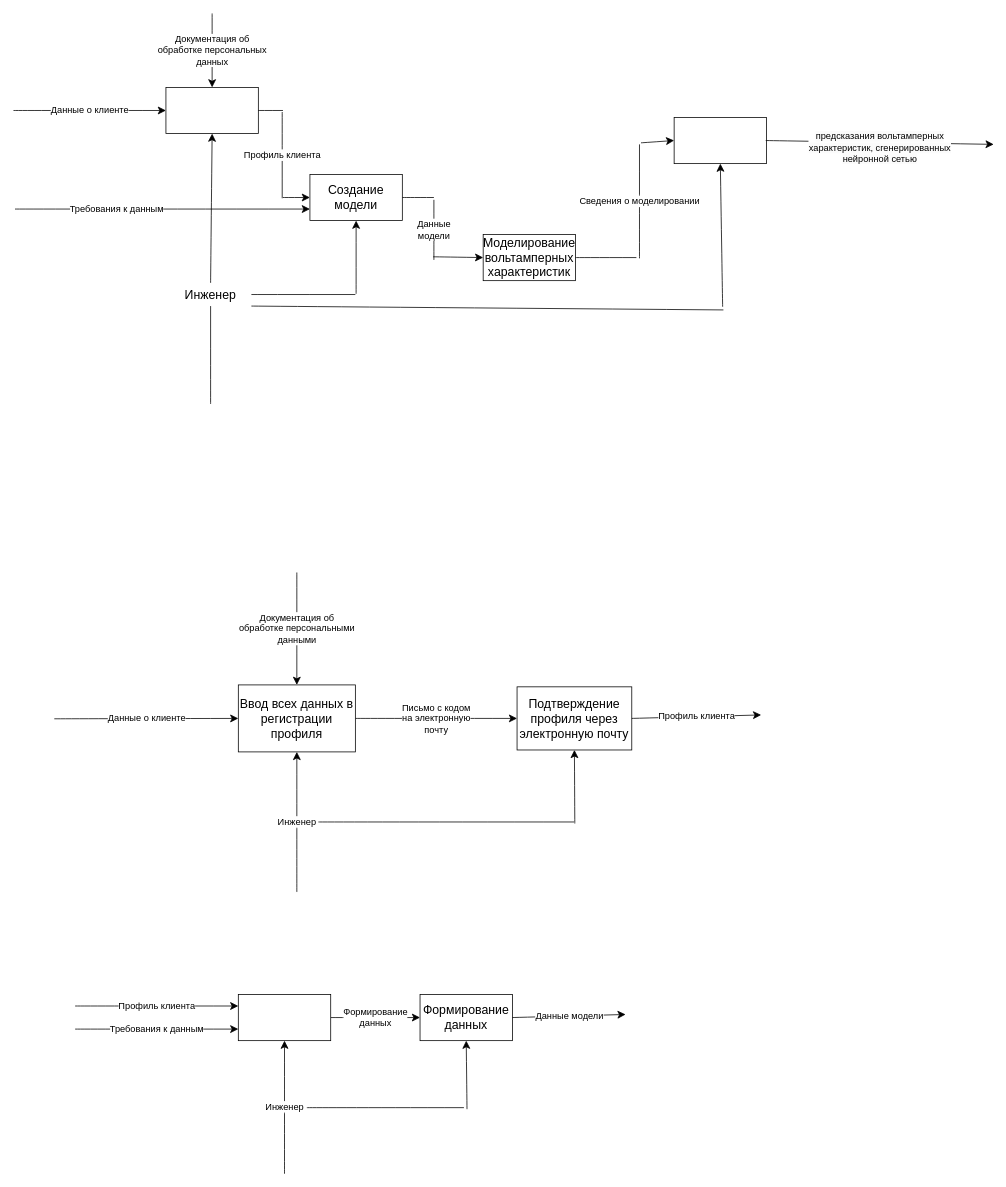
Image size: 1006x1187. Some labels were removed from this diagram. Here are the shapes that lost their labels. From the top down, the centre of each, then its label:
At point 211,110: "Регистрация в системе".
At point 720,140: "Генерация отчета".
At point 284,1017: "Реализация модели".
